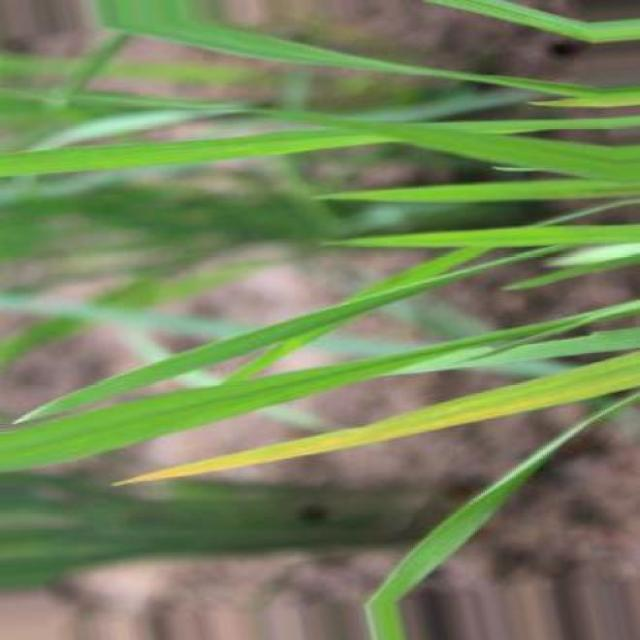Rice Tungro: (122, 353, 639, 483)
